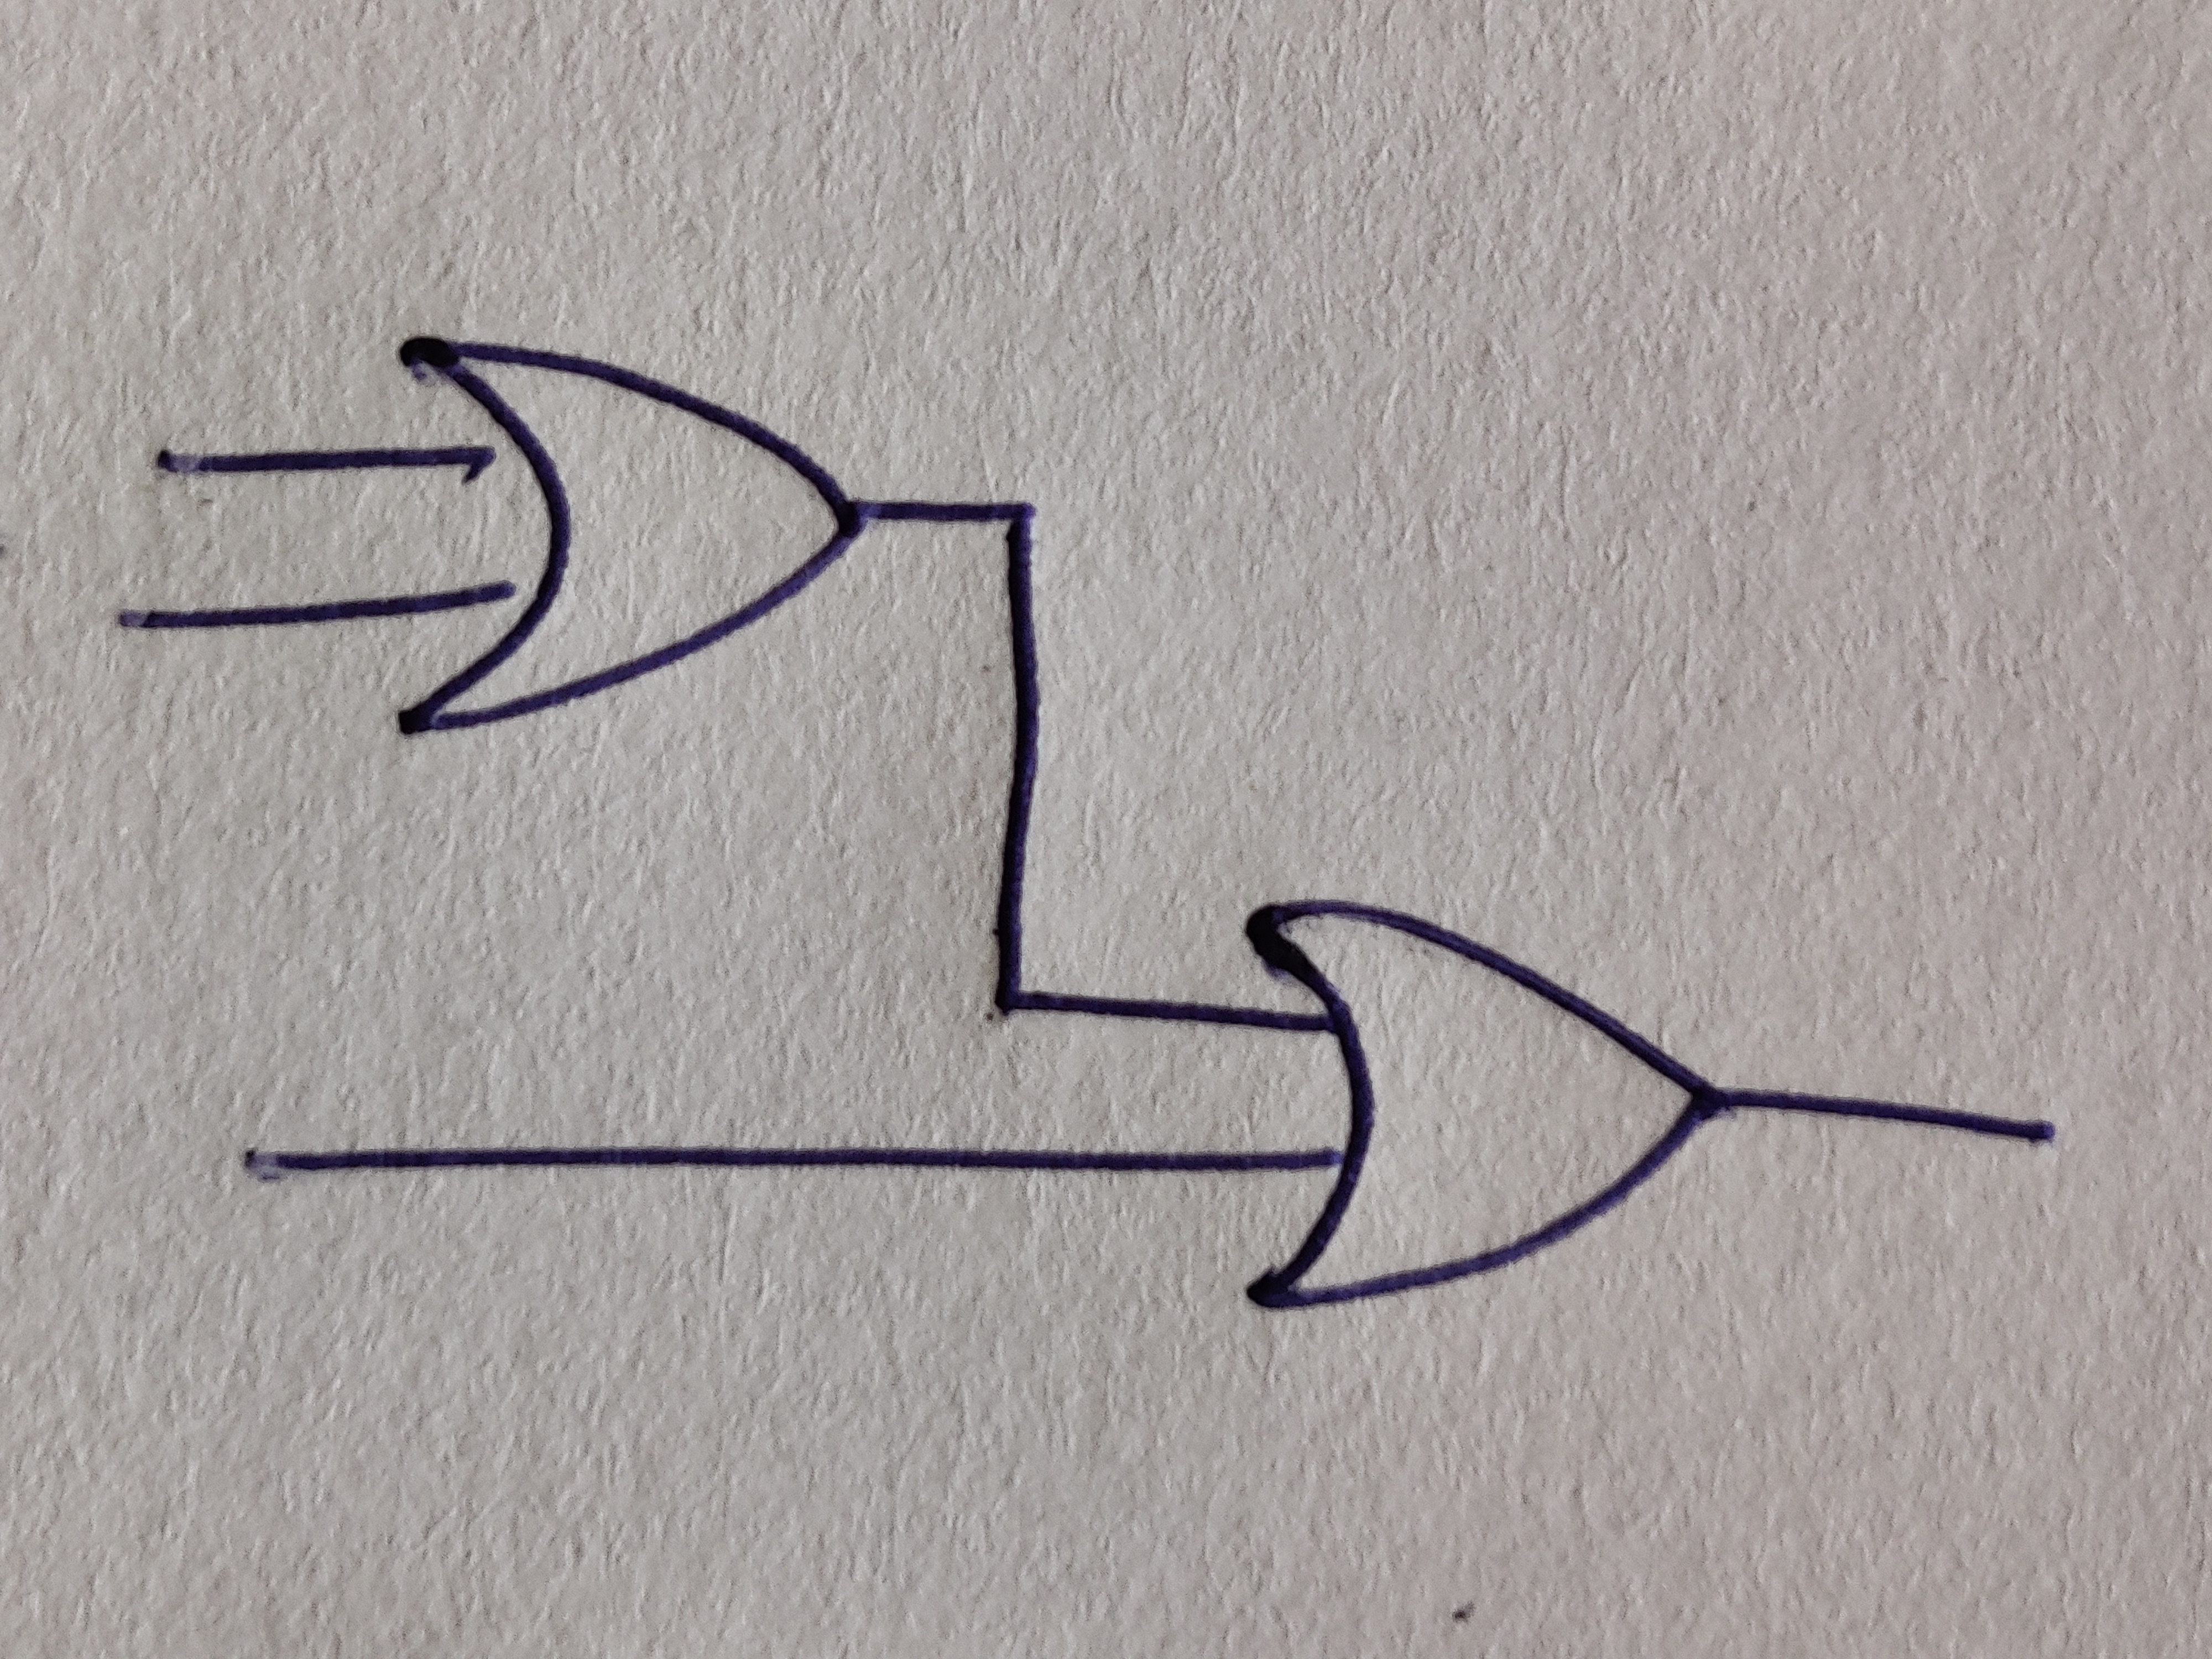or: (1244, 901, 1730, 1307), (397, 333, 864, 737)
